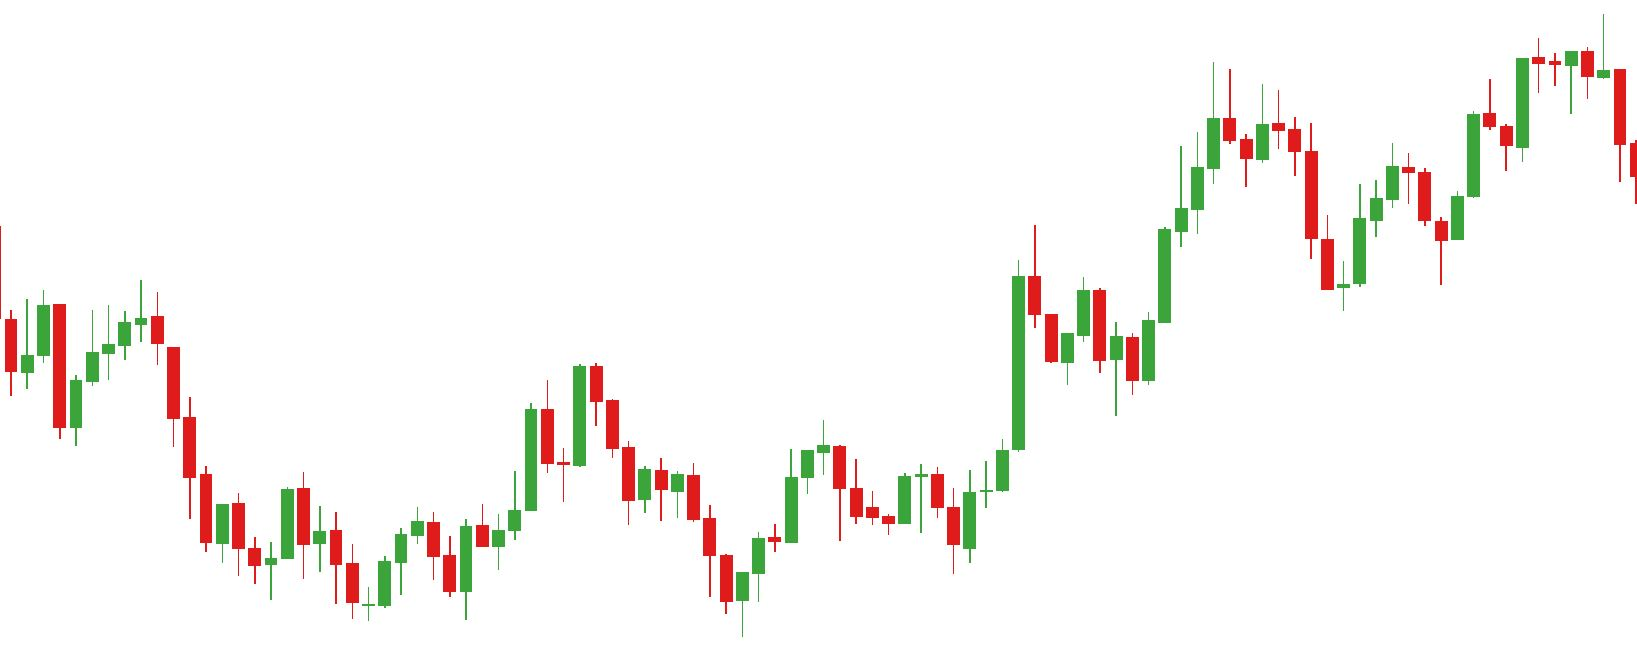buy: (834, 456, 978, 575), (261, 512, 392, 622)
